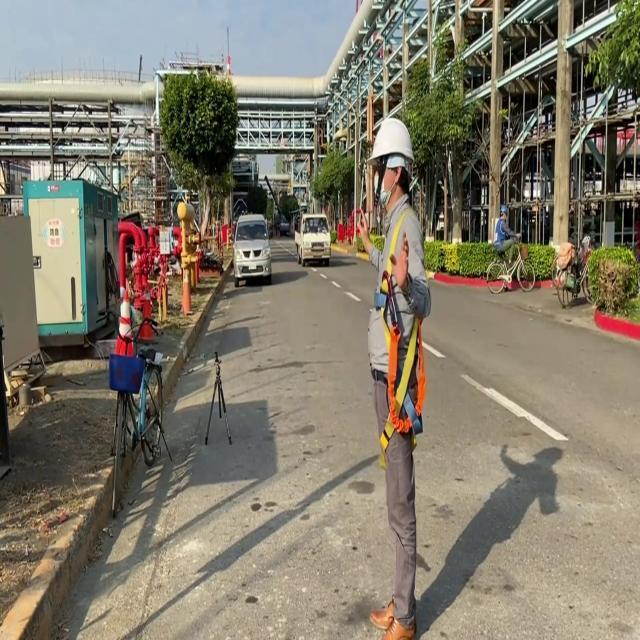Harness: (381, 271, 427, 452)
